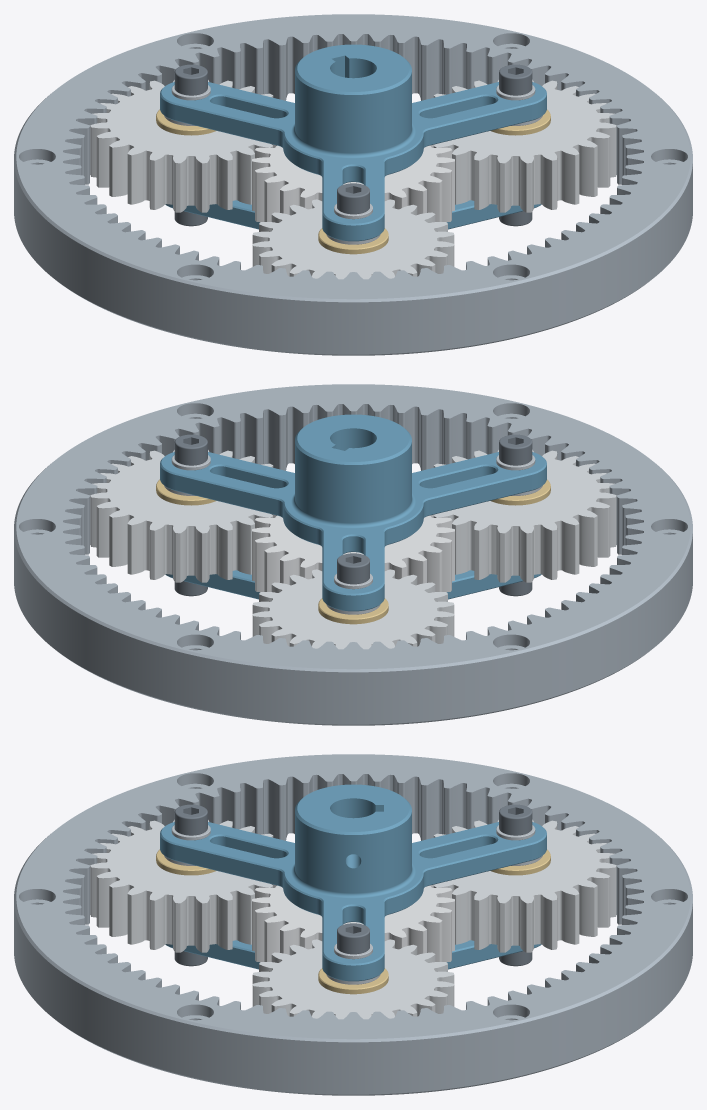
The model's file is onshape-planetary-reference.glb.
3 views of the same model, one above another, from view 1: azimuth 30°, elevation 25°; view 2: azimuth 150°, elevation 25°; view 3: azimuth 270°, elevation 25° (orthographic).
Visible parts, largest first — view 1: Internal Ring Gear, Planet Gear 1 (×3), Carrier Front And Output Hub, Sun Gear And Input Shaft, Front Socket Screw 1 (×3), Carrier Rear, Flanged Bushing 1 (×3); view 2: Internal Ring Gear, Planet Gear 1 (×3), Carrier Front And Output Hub, Sun Gear And Input Shaft, Front Socket Screw 1 (×3), Carrier Rear, Flanged Bushing 1 (×3); view 3: Internal Ring Gear, Planet Gear 1 (×3), Carrier Front And Output Hub, Sun Gear And Input Shaft, Front Socket Screw 1 (×3), Carrier Rear, Flanged Bushing 1 (×3).
Part boxes in pixels (x1=…): Internal Ring Gear: x1=14, y1=14, x2=692, y2=355; Planet Gear 1 (×3): x1=90, y1=79, x2=616, y2=279; Carrier Front And Output Hub: x1=160, y1=44, x2=546, y2=241; Sun Gear And Input Shaft: x1=252, y1=144, x2=454, y2=222; Front Socket Screw 1 (×3): x1=174, y1=64, x2=532, y2=214; Carrier Rear: x1=165, y1=200, x2=541, y2=229; Flanged Bushing 1 (×3): x1=156, y1=109, x2=550, y2=254; Internal Ring Gear: x1=14, y1=384, x2=692, y2=725; Planet Gear 1 (×3): x1=90, y1=449, x2=616, y2=649; Carrier Front And Output Hub: x1=160, y1=414, x2=546, y2=611; Sun Gear And Input Shaft: x1=252, y1=514, x2=454, y2=592; Front Socket Screw 1 (×3): x1=174, y1=434, x2=532, y2=584; Carrier Rear: x1=165, y1=570, x2=541, y2=599; Flanged Bushing 1 (×3): x1=156, y1=479, x2=550, y2=624; Internal Ring Gear: x1=14, y1=754, x2=692, y2=1095; Planet Gear 1 (×3): x1=90, y1=819, x2=616, y2=1019; Carrier Front And Output Hub: x1=160, y1=784, x2=546, y2=981; Sun Gear And Input Shaft: x1=252, y1=884, x2=454, y2=962; Front Socket Screw 1 (×3): x1=174, y1=804, x2=532, y2=954; Carrier Rear: x1=165, y1=940, x2=541, y2=969; Flanged Bushing 1 (×3): x1=156, y1=849, x2=550, y2=994.
Bounding box in the file's own units: 174 × 68 × 174.
